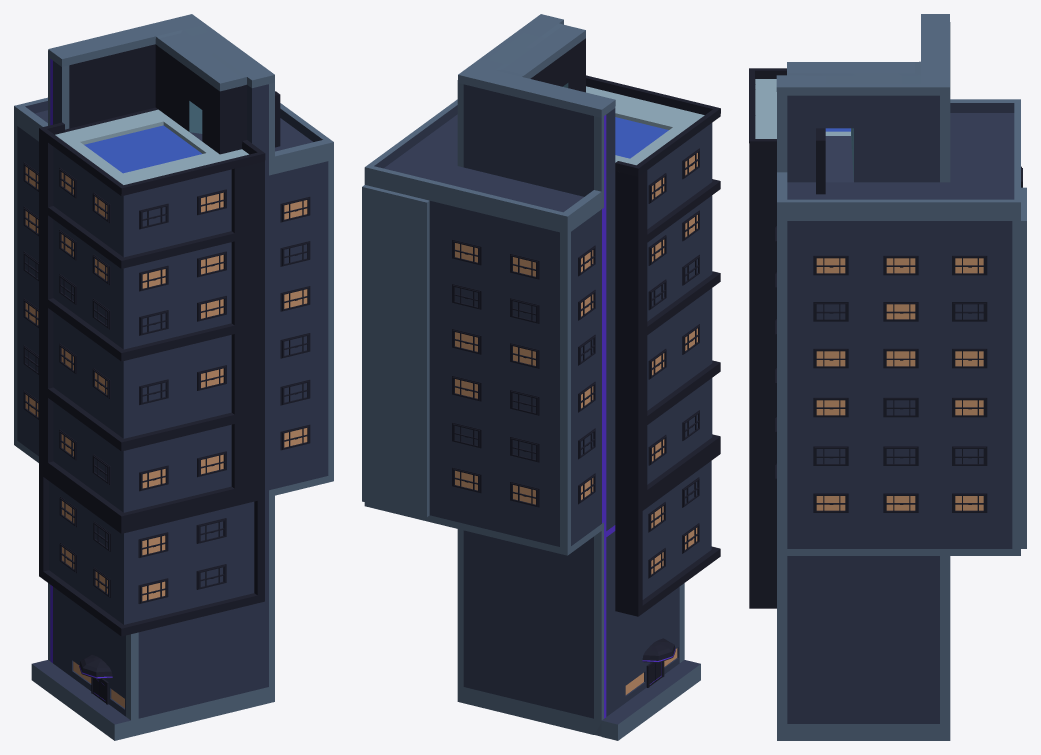
File: Building_Skyscraper06.fbx
The picture shows the model from 3 angles, left to right: view 1: azimuth 30°, elevation 25°; view 2: azimuth 150°, elevation 25°; view 3: azimuth 270°, elevation 25°; orthographic projection. The views are drawn at different scales.
Parts seen in each view (by area): view 1: Cube.757, Cylinder.341; view 2: Cube.757, Cylinder.341; view 3: Cube.757.
Boxes of the visible parts, <box> form: Cube.757: <box>14,14,333,740</box>; Cylinder.341: <box>79,654,112,679</box>; Cube.757: <box>362,14,720,740</box>; Cylinder.341: <box>642,638,675,662</box>; Cube.757: <box>749,14,1026,740</box>.
Bounding box in the file's own units: 1743 × 4598 × 1771.
